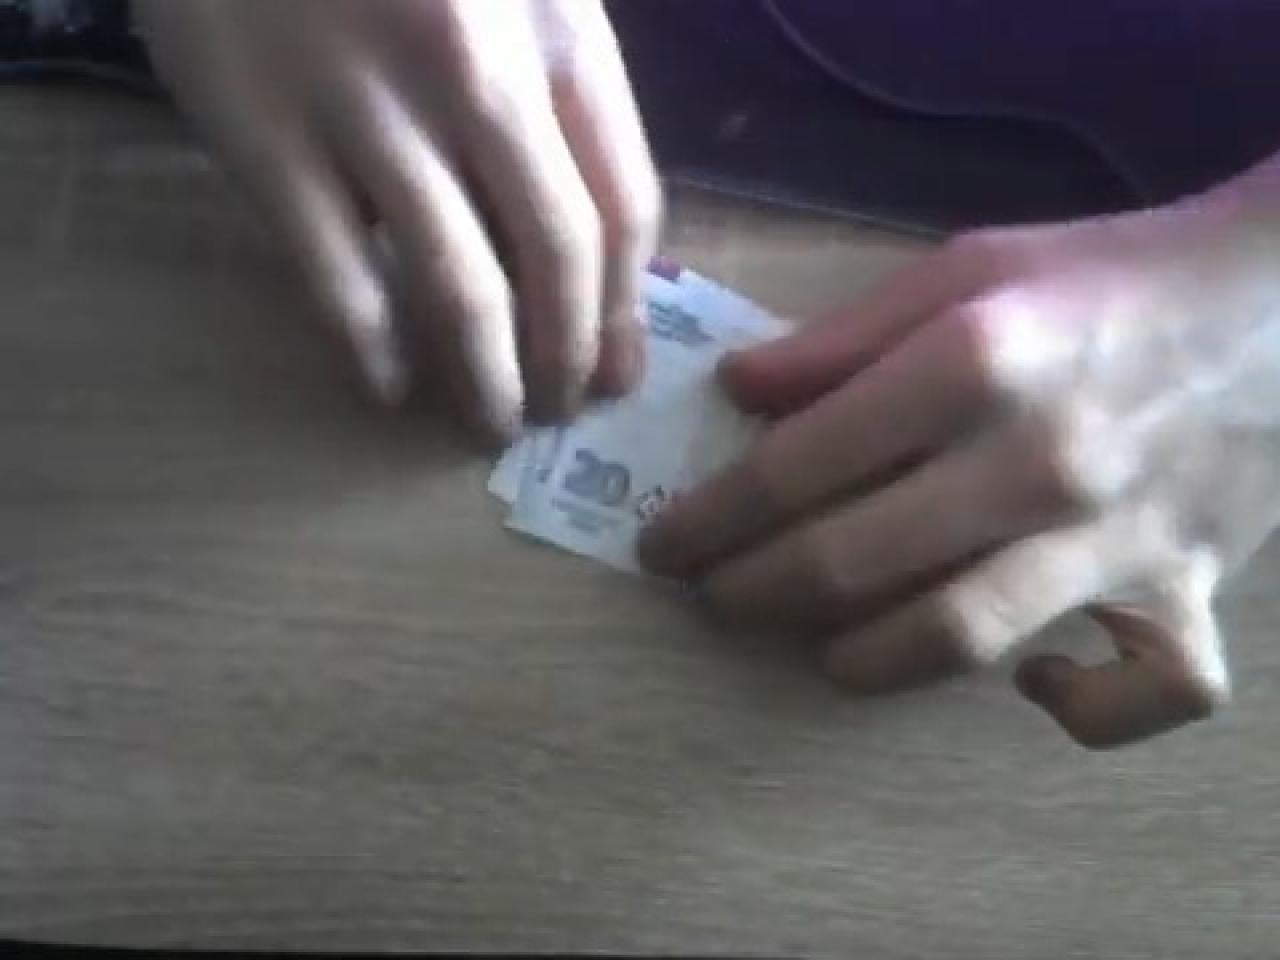20leva: (486, 277, 752, 579)
